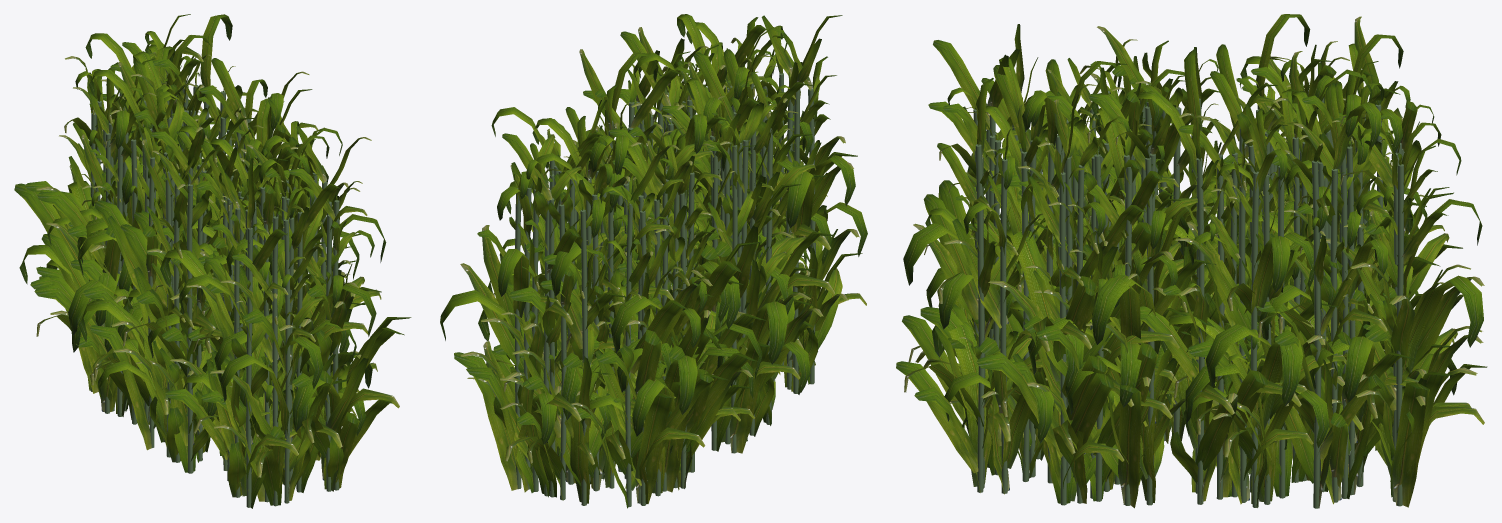
The model's file is milharal4x10_denso3.fbx.
3 renders of one model, left to right at view 1: azimuth 30°, elevation 25°; view 2: azimuth 150°, elevation 25°; view 3: azimuth 270°, elevation 25°, orthographic. The views are drawn at different scales.
Visible parts, largest first — view 1: Plantacao2; view 2: Plantacao2; view 3: Plantacao2.
Part boxes in pixels (bbox=[...]): Plantacao2: bbox=[14, 14, 411, 508]; Plantacao2: bbox=[440, 14, 867, 508]; Plantacao2: bbox=[896, 14, 1487, 508].
Bounding box in the file's own units: 862 × 1087 × 1390.
